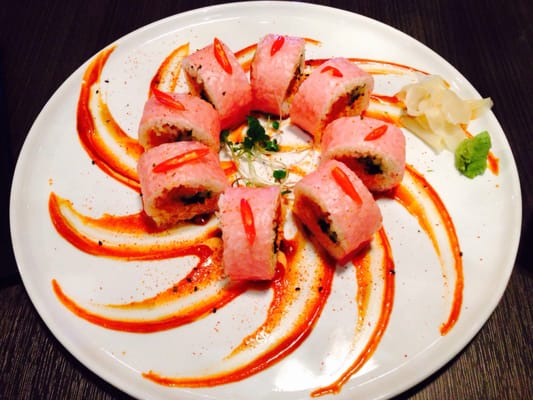curry: (454, 132, 494, 180)
